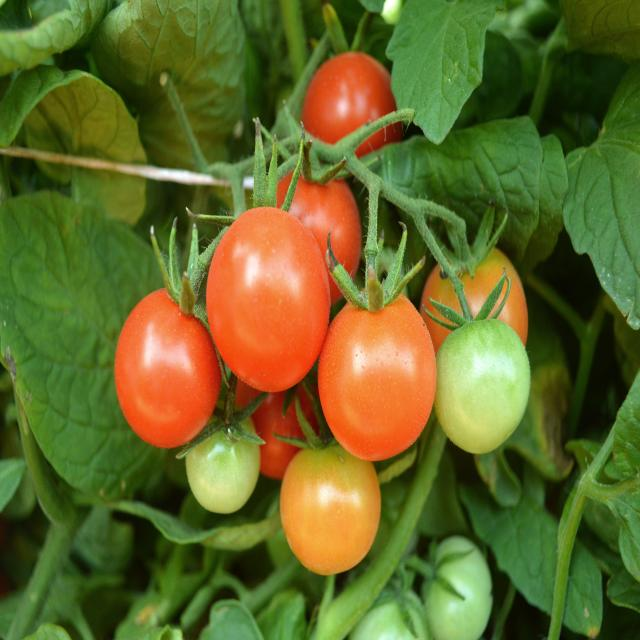tomato: (205, 180, 329, 388), (116, 251, 224, 455), (325, 280, 443, 464)
